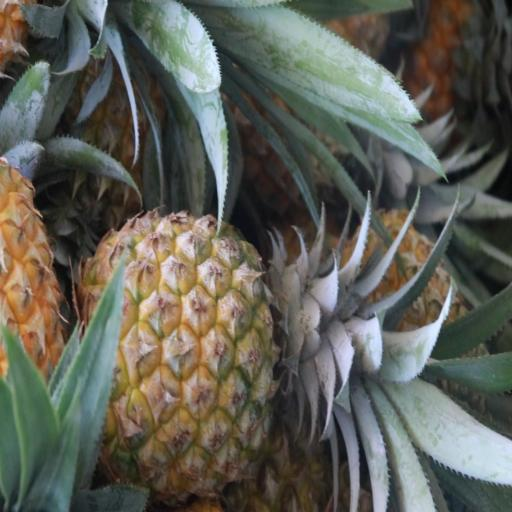Pineapple - v8 v1: (89, 213, 297, 492)
